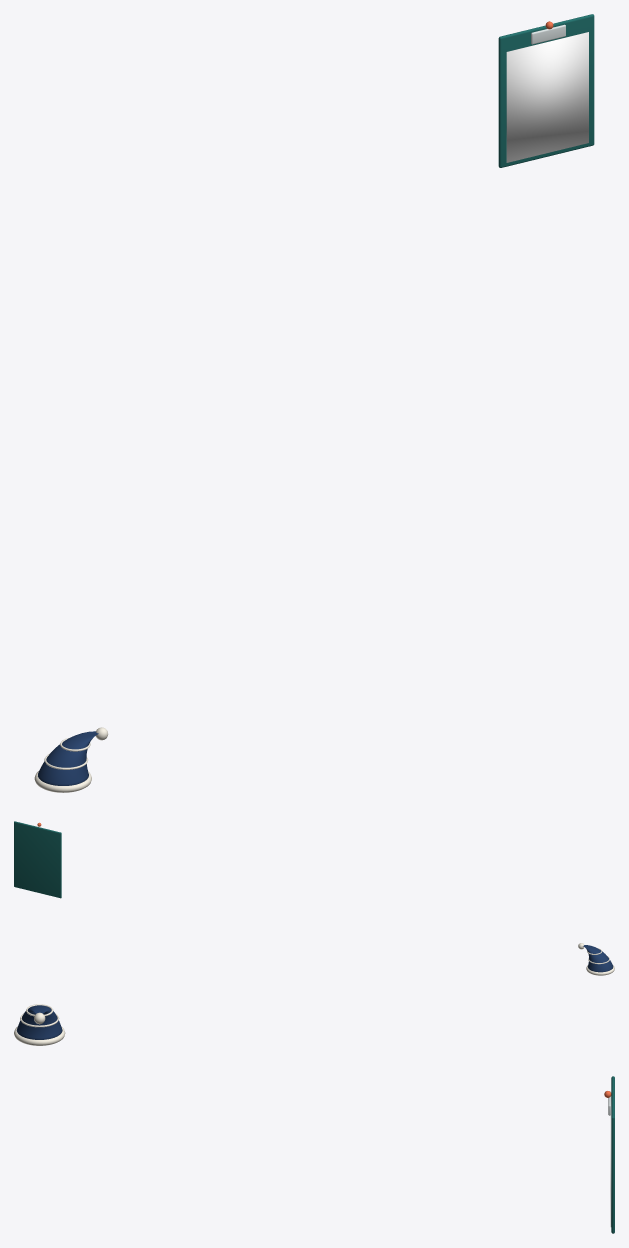
Rendered from night.glb.
3 renders of one model, top to bottom at view 1: azimuth 30°, elevation 25°; view 2: azimuth 150°, elevation 25°; view 3: azimuth 270°, elevation 25°, orthographic. The views are drawn at different scales.
Visible parts, largest first — view 1: RosterPaper, RosterBoard, CapBody; view 2: RosterBoard, CapBody; view 3: CapBody, RosterBoard, CapBand.
Boxes of the visible parts, x1=… form: RosterPaper: x1=506, y1=32, x2=588, y2=162; RosterBoard: x1=498, y1=14, x2=594, y2=167; CapBody: x1=38, y1=731, x2=98, y2=785; RosterBoard: x1=14, y1=821, x2=61, y2=898; CapBody: x1=583, y1=945, x2=613, y2=972; CapBody: x1=16, y1=1005, x2=62, y2=1039; RosterBoard: x1=611, y1=1076, x2=614, y2=1233; CapBand: x1=14, y1=1026, x2=65, y2=1045.
Bounding box in the file's own units: 20.28 × 7.31 × 13.47.
